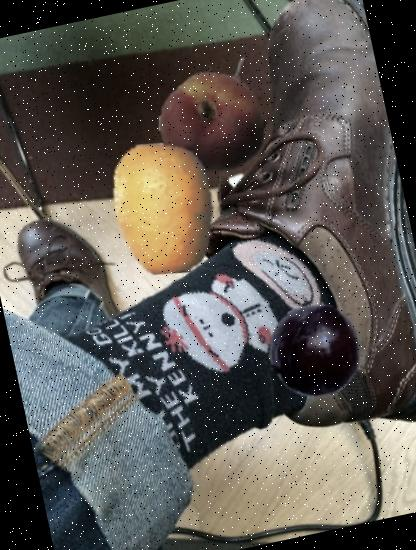Kumquats: (86, 130, 242, 287)
Nectarine: (148, 58, 276, 186)
Plum: (259, 294, 372, 408)
